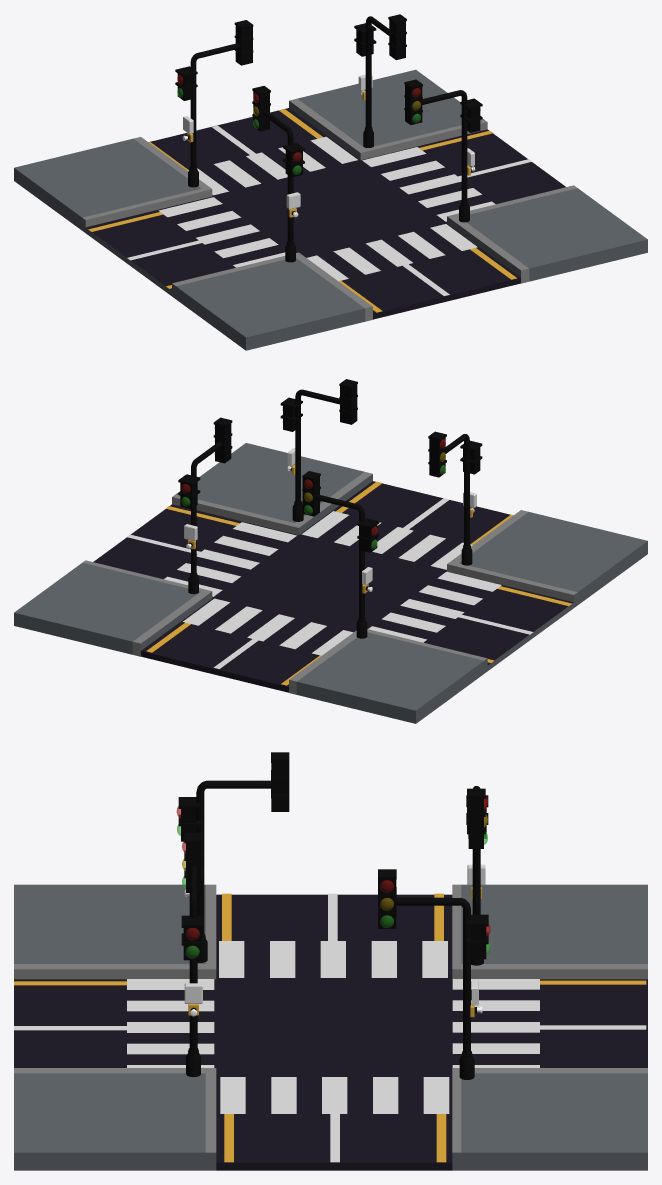
Rendered from Level_3.glb.
3 renders of one model, top to bottom at view 1: azimuth 30°, elevation 25°; view 2: azimuth 150°, elevation 25°; view 3: azimuth 270°, elevation 25°, orthographic. The views are drawn at different scales.
Visible parts, largest first — view 1: Level_3, Plane, Plane.006, Plane.009, Plane.003, Cylinder.010, Cylinder.002, Cylinder.001, Cylinder.005; view 2: Level_3, Plane.003, Plane.006, Plane.009, Plane, Cylinder.010, Cylinder.005, Cylinder.001, Cylinder.002; view 3: Level_3, Plane.009, Plane.006, Plane, Plane.003, Cylinder.002, Cylinder.005, Cylinder.010, Plane.010, Plane.007, Cylinder.001.
Boxes of the visible parts, x1,y1,x2,y2 form: Level_3: (14,69,647,350); Plane: (307,224,477,281); Plane.006: (158,197,285,267); Plane.009: (362,147,495,221); Plane.003: (187,136,357,195); Cylinder.010: (422,90,469,222); Cylinder.002: (363,16,389,147); Cylinder.001: (188,43,239,187); Cylinder.005: (262,110,295,262); Level_3: (14,443,647,723); Plane.003: (183,598,353,655); Plane.006: (368,571,501,642); Plane.009: (164,522,296,596); Plane: (301,511,472,569); Cylinder.010: (292,389,339,521); Cylinder.005: (445,434,472,565); Cylinder.001: (315,494,367,638); Cylinder.002: (188,442,221,594); Level_3: (14,884,647,1170); Plane.009: (220,1077,449,1113); Plane.006: (219,941,447,977); Plane: (127,979,214,1067); Plane.003: (452,979,539,1067); Cylinder.002: (396,897,474,1079); Cylinder.005: (196,780,271,962); Cylinder.010: (186,865,200,1077); Plane.010: (224,1114,446,1162); Plane.007: (222,893,443,940); Cylinder.001: (471,786,483,965).
Size of the model in its own units: 8.05 by 3.1 by 8.03.
